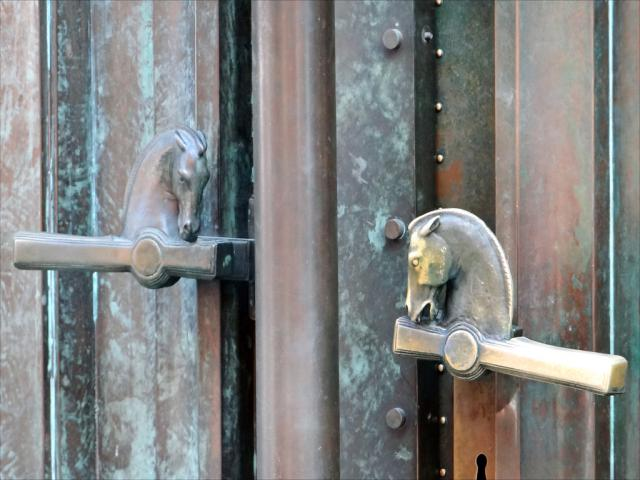Door-handle: (391, 206, 630, 398), (13, 124, 255, 289)
